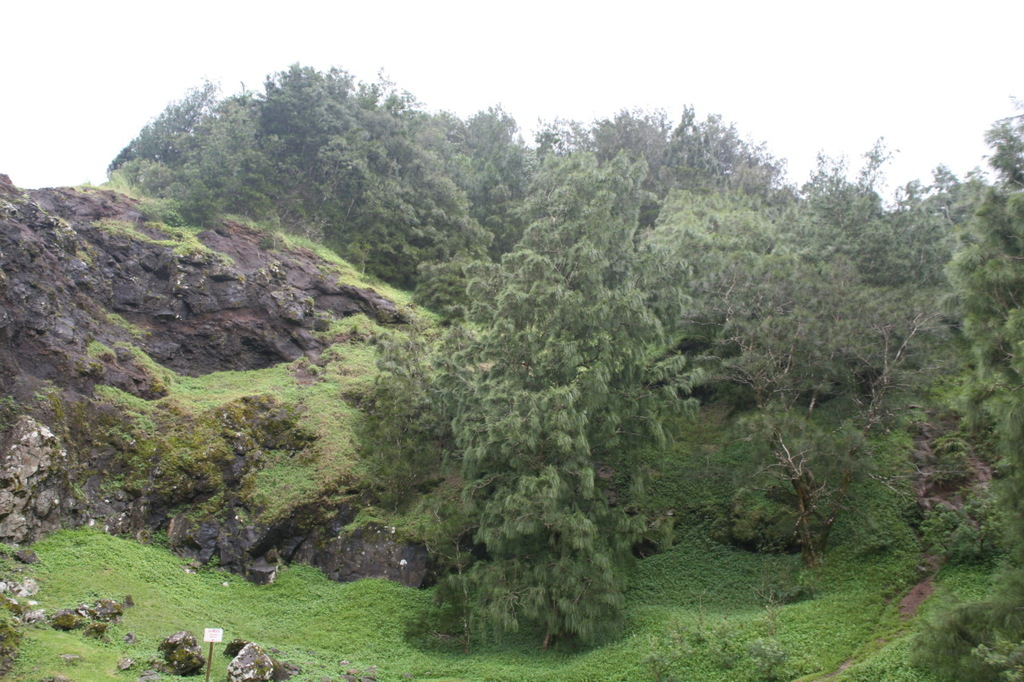Tree: (102, 60, 1023, 681), (96, 53, 786, 280)
